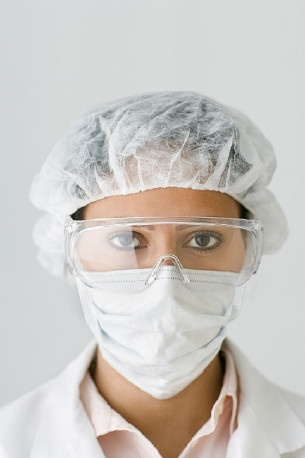Mask: (74, 212, 261, 399)
